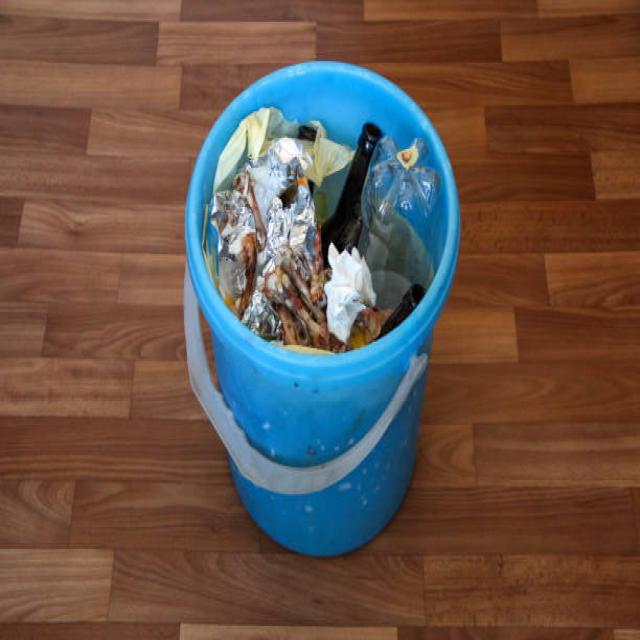plastic: (192, 91, 433, 587)
